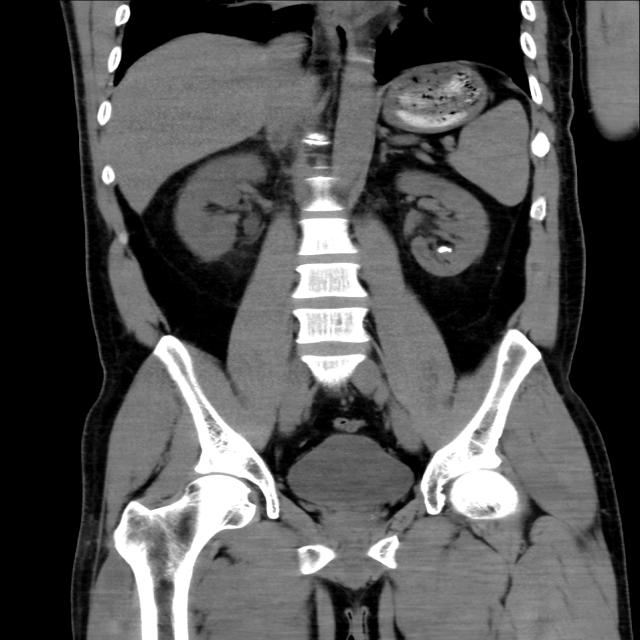kidneystone: (436, 246, 452, 254)
